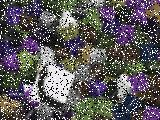Right: (29, 59, 75, 113)
